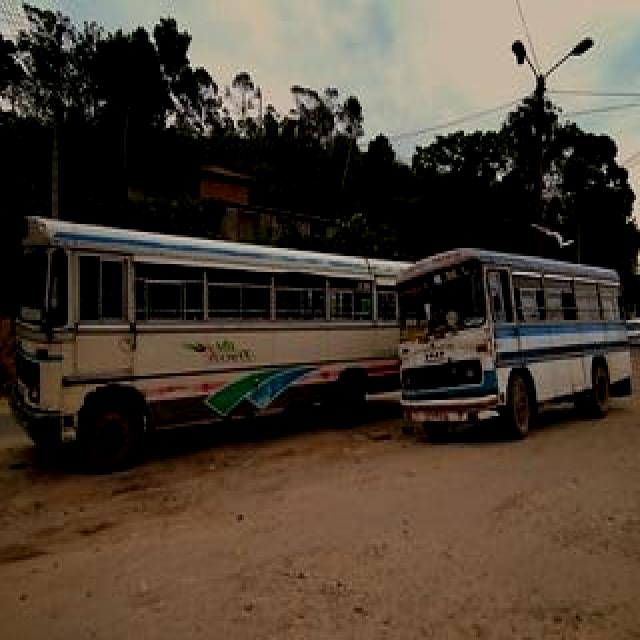Bus: (8, 210, 450, 476), (402, 234, 632, 438)
